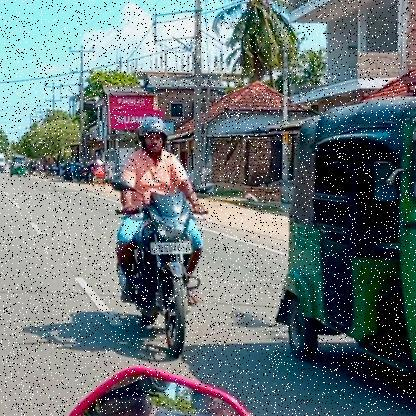motorcycle: (106, 190, 226, 364)
